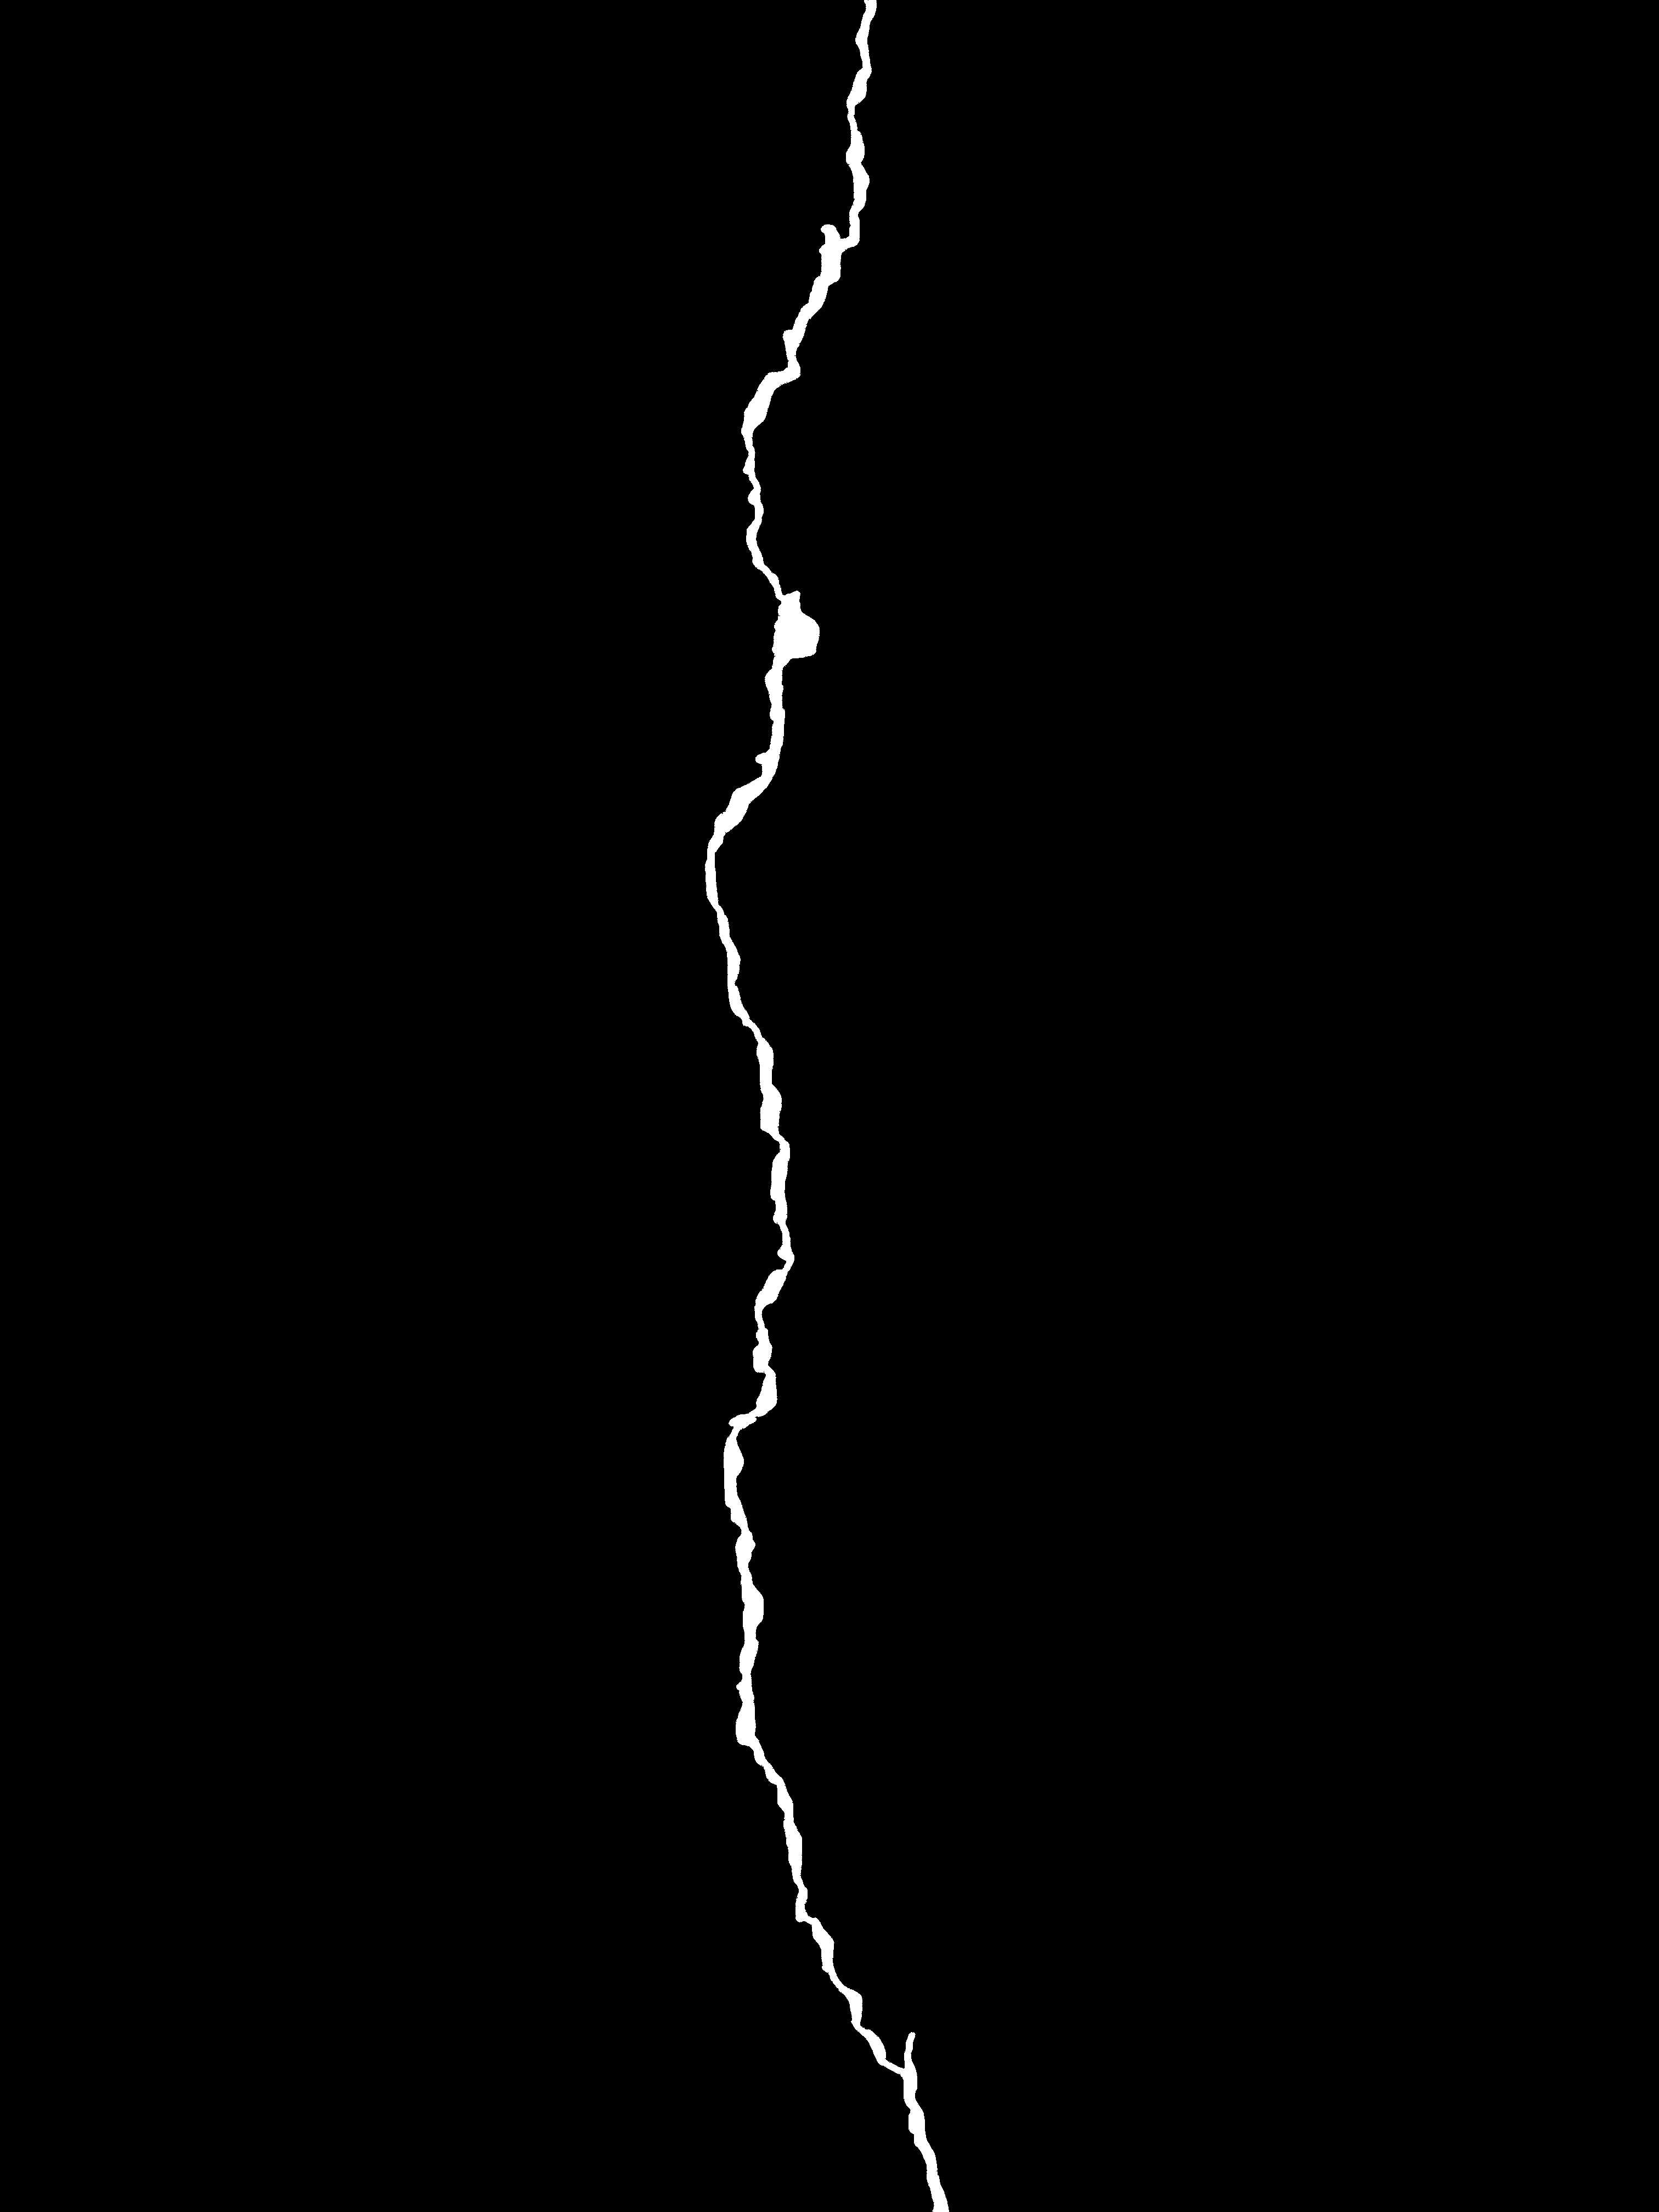Crack: (688, 0, 976, 2212)
